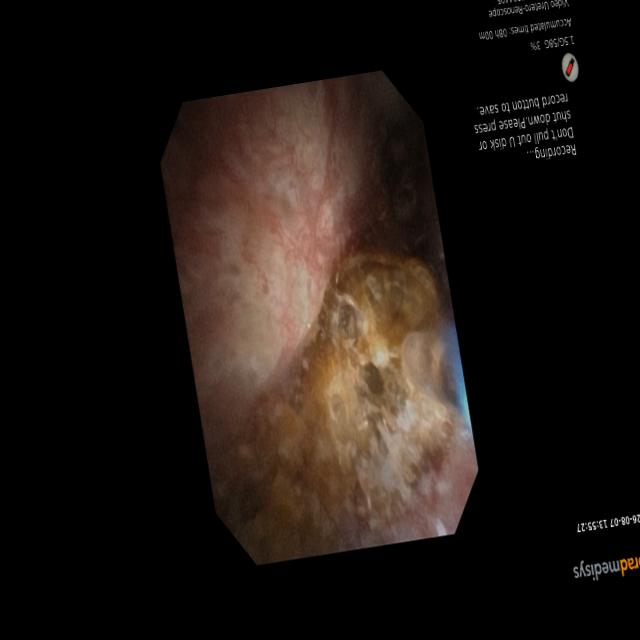laser-fibre: (402, 329, 455, 407)
stone-new: (225, 253, 462, 563)
